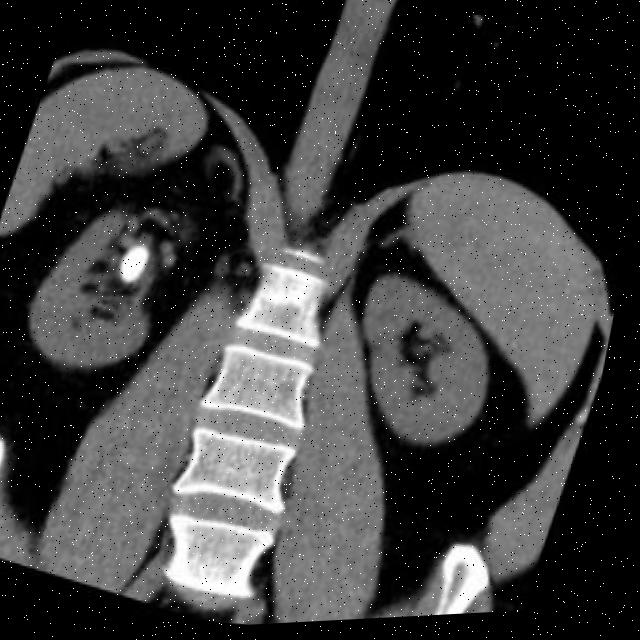Tas_Var: (113, 235, 157, 297)
